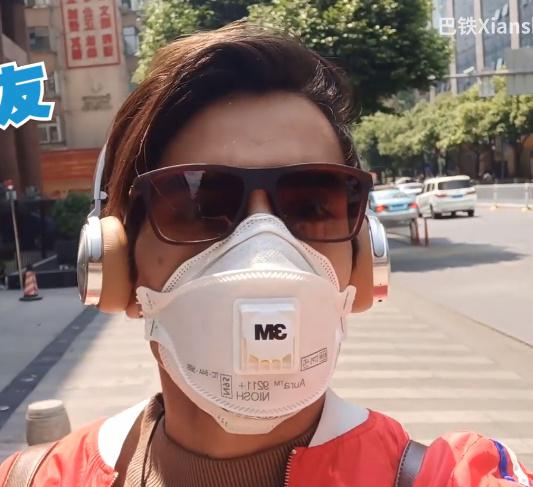OK: (137, 136, 355, 435)
